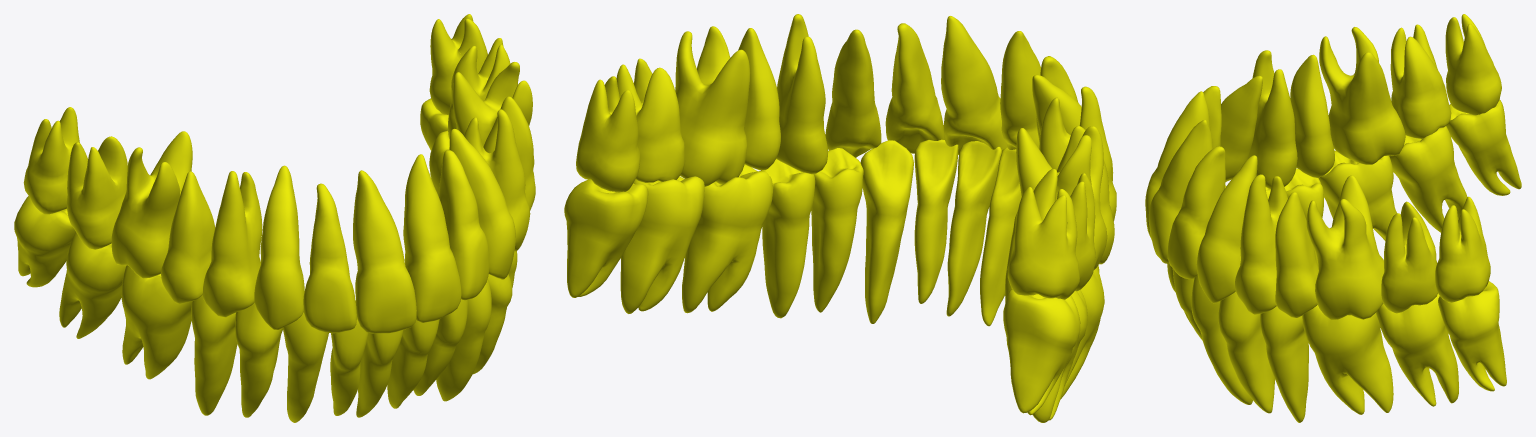
Rendered from permanent-dentition.glb.
3 renders of one model, left to right at view 1: azimuth 30°, elevation 25°; view 2: azimuth 150°, elevation 25°; view 3: azimuth 270°, elevation 25°, orthographic. The views are drawn at different scales.
Visible parts, largest first — view 1: ZBrushPolyMesh3D2 (×2), ZBrushPolyMesh3D1 (×2), polySurface2, polySurface8, ZBrushPolyMesh3D3 (×2), polySurface1, ZBrushPolyMesh3D5 (×2), ZBrushPolyMesh3D8, polySurface6, ZBrushPolyMesh3D4 (×2), ZBrushPolyMesh3D7 (×2), polySurface10 (+12 smaller); view 2: ZBrushPolyMesh3D7 (×2), ZBrushPolyMesh3D5, LL6seam_2:ZBrushPolyMesh3D, LL7seam_2:ZBrushPolyMesh3D, ZBrushPolyMesh3D, LL8seam_2:ZBrushPolyMesh3D, ZBrushPolyMesh3D2 (×2), LL3seam_2:ZBrushPolyMesh3D, polySurface12, ZBrushPolyMesh3D1 (×2), ZBrushPolyMesh3D3, polySurface1 (+13 smaller); view 3: ZBrushPolyMesh3D1 (×2), ZBrushPolyMesh3D2 (×2), ZBrushPolyMesh3D5, polySurface8, LL6seam_2:ZBrushPolyMesh3D, LL7seam_2:ZBrushPolyMesh3D, ZBrushPolyMesh3D4 (×2), polySurface10, ZBrushPolyMesh3D3, polySurface9, LL8seam_2:ZBrushPolyMesh3D, ZBrushPolyMesh3D8 (+12 smaller).
Part boxes in pixels (x1,y1,x2,y2): ZBrushPolyMesh3D2 (×2): (121, 128, 515, 379); ZBrushPolyMesh3D1 (×2): (59, 150, 489, 338); polySurface2: (353, 170, 416, 333); polySurface8: (111, 131, 192, 278); ZBrushPolyMesh3D3 (×2): (235, 109, 530, 417); polySurface1: (403, 154, 461, 322); ZBrushPolyMesh3D5 (×2): (283, 62, 534, 422); ZBrushPolyMesh3D8: (202, 171, 262, 317); polySurface6: (254, 165, 304, 329); ZBrushPolyMesh3D4 (×2): (191, 96, 535, 415); ZBrushPolyMesh3D7 (×2): (356, 14, 487, 417); polySurface10: (66, 136, 127, 249); ZBrushPolyMesh3D7 (×2): (576, 76, 1021, 326); ZBrushPolyMesh3D5: (675, 26, 750, 186); LL6seam_2:ZBrushPolyMesh3D: (682, 164, 772, 313); LL7seam_2:ZBrushPolyMesh3D: (620, 176, 704, 313); ZBrushPolyMesh3D: (1003, 289, 1080, 415); LL8seam_2:ZBrushPolyMesh3D: (564, 179, 648, 297); ZBrushPolyMesh3D2 (×2): (825, 29, 1104, 399); LL3seam_2:ZBrushPolyMesh3D: (860, 140, 913, 323); polySurface12: (1007, 187, 1079, 299); ZBrushPolyMesh3D1 (×2): (885, 23, 1087, 422); ZBrushPolyMesh3D3: (776, 14, 827, 174); polySurface1: (941, 16, 1007, 154); ZBrushPolyMesh3D1 (×2): (1167, 126, 1467, 279); ZBrushPolyMesh3D2 (×2): (1196, 150, 1396, 303); ZBrushPolyMesh3D5: (1306, 175, 1384, 320); polySurface8: (1319, 27, 1405, 164); LL6seam_2:ZBrushPolyMesh3D: (1302, 305, 1393, 414); LL7seam_2:ZBrushPolyMesh3D: (1376, 293, 1458, 406); ZBrushPolyMesh3D4 (×2): (1275, 168, 1323, 317); polySurface10: (1390, 24, 1451, 138); ZBrushPolyMesh3D3: (1235, 174, 1287, 314); polySurface9: (1381, 201, 1437, 313); LL8seam_2:ZBrushPolyMesh3D: (1438, 281, 1506, 391); ZBrushPolyMesh3D8: (1248, 50, 1297, 189).
Size of the model in its own units: 0.0703 by 0.0418 by 0.0517.
Materials: 16 (16 with a texture image).
